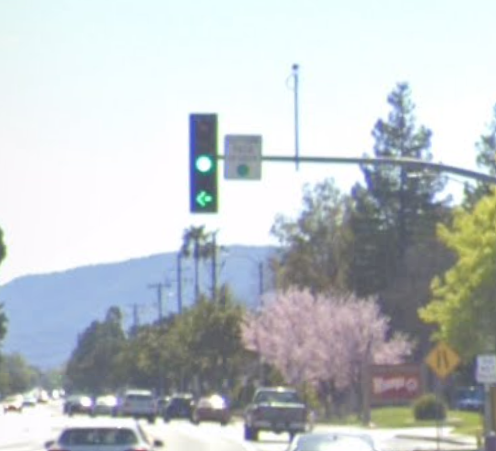green_light: (189, 115, 216, 184)
